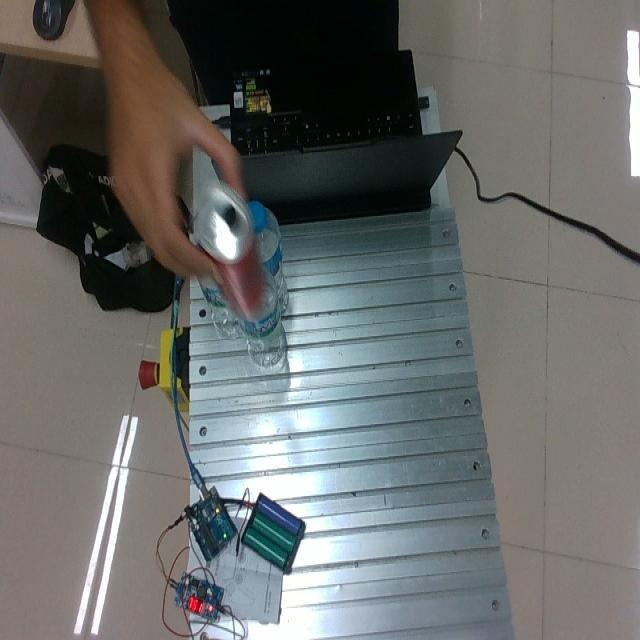coca: (190, 185, 274, 316)
lavie: (232, 261, 286, 372), (251, 201, 287, 312), (196, 264, 237, 337)
